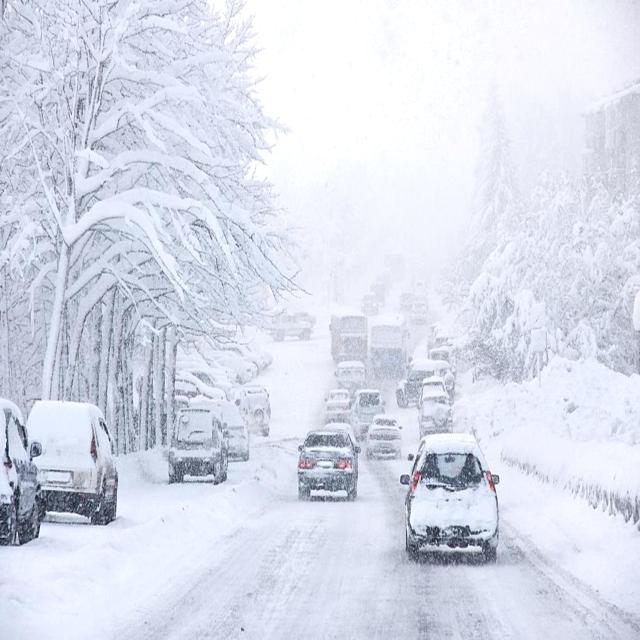Bus: (368, 312, 411, 378), (329, 308, 368, 364)
Car: (400, 435, 500, 564), (26, 400, 119, 525), (0, 397, 46, 547), (166, 406, 230, 484), (296, 430, 360, 502), (396, 360, 455, 409), (234, 382, 272, 434), (365, 416, 403, 459), (352, 388, 387, 434), (219, 414, 251, 461), (419, 392, 453, 433), (274, 313, 312, 343), (326, 390, 352, 423)
